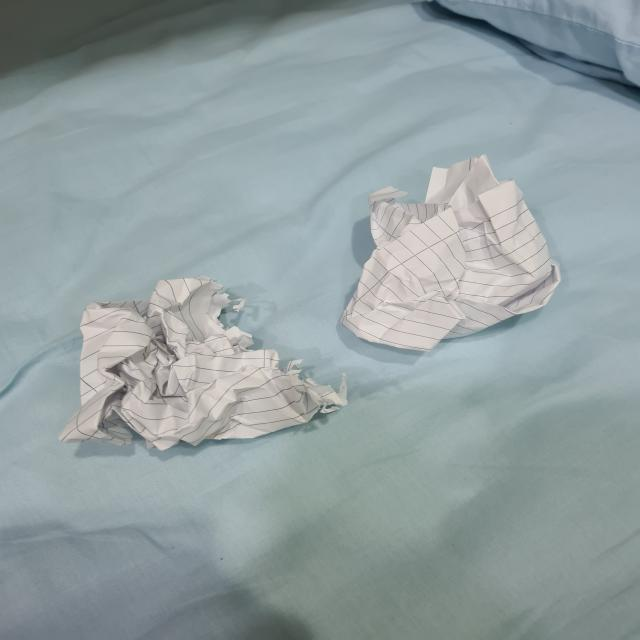Paper: (70, 273, 340, 449), (344, 156, 559, 352)
